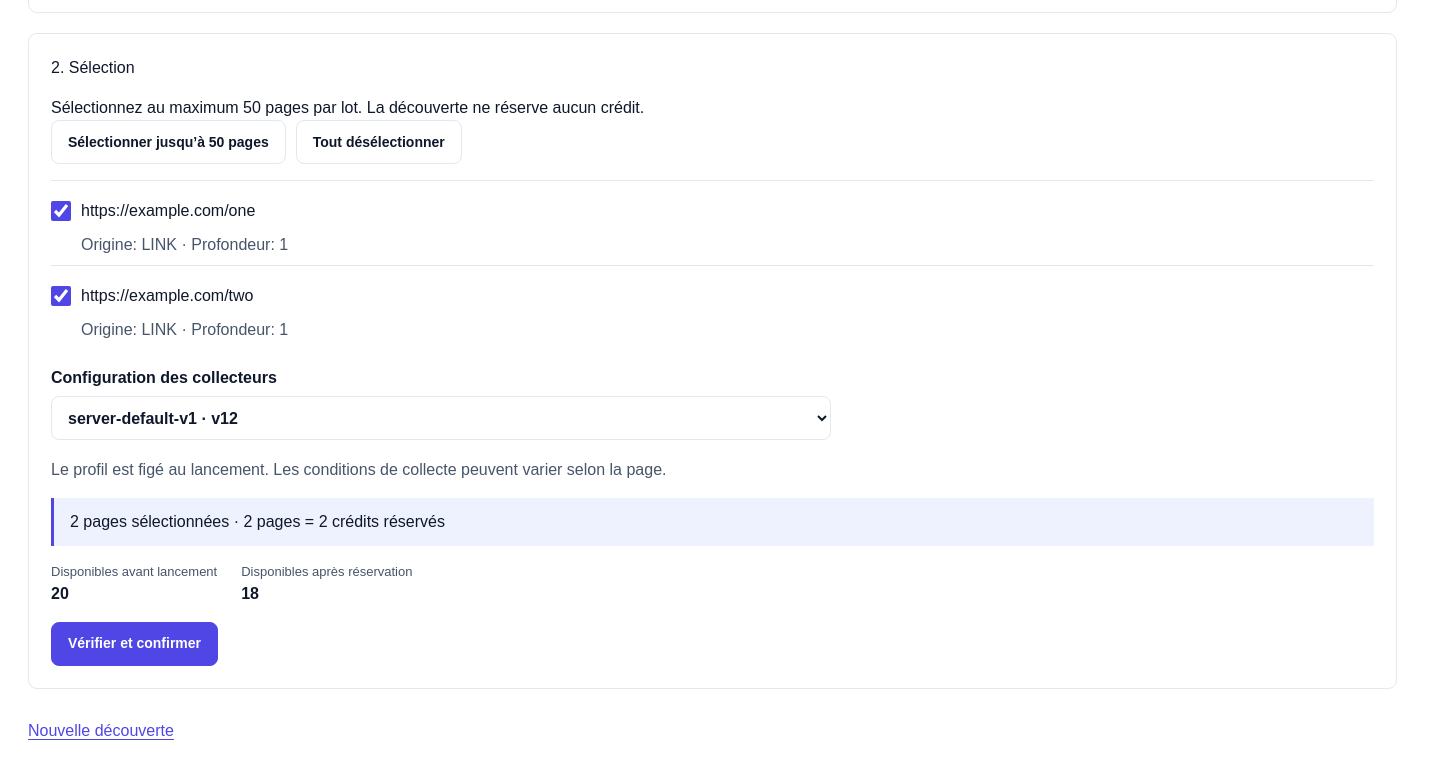
Scenario: keeps selection active when the fresh quota prevents confirmation
(page scrolled)
Click the button "Vérifier et confirmer". click: (135,644)
box: [51,622,218,666]
(page scrolled)
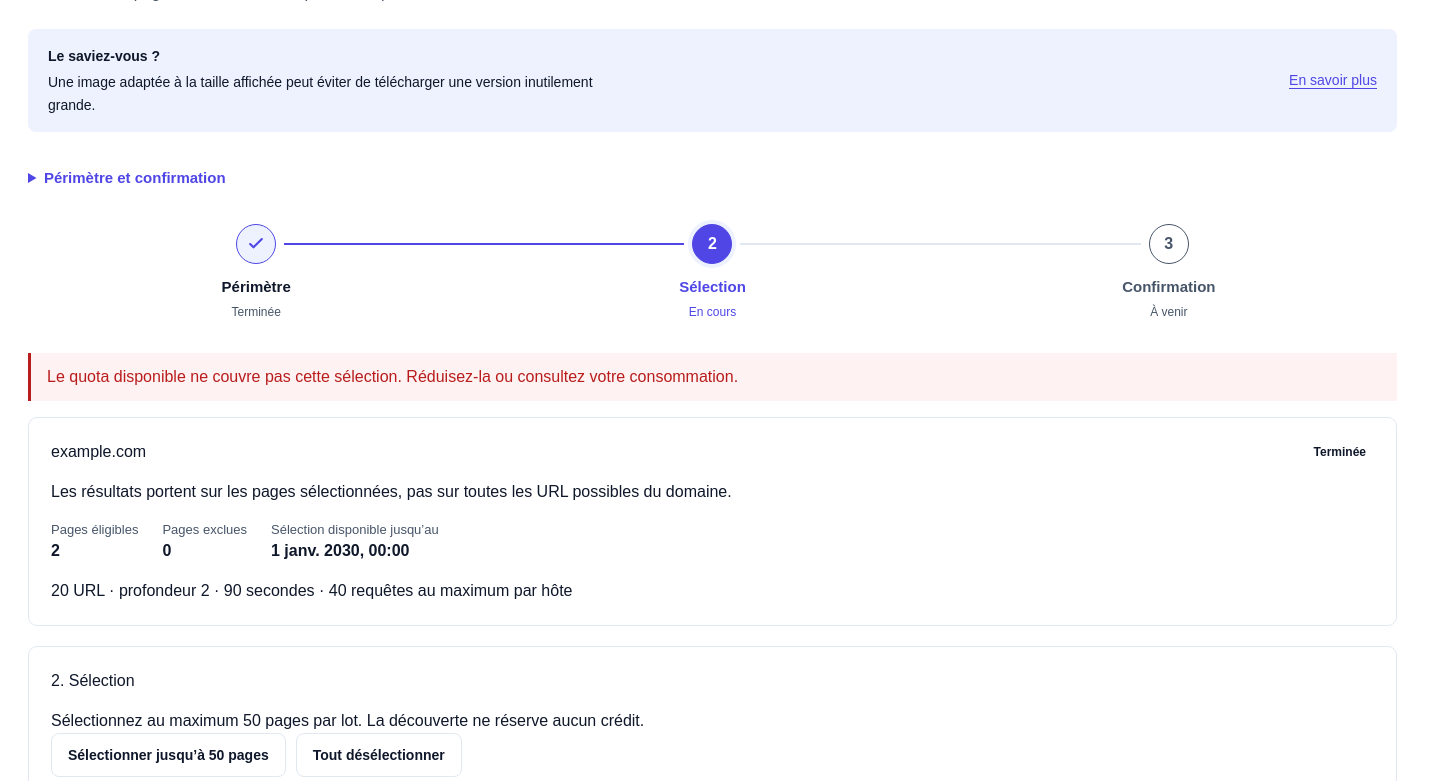
Expected: the list item "2 Sélection En cours" is shown, [679,224,746,319]
Expected: the message is shown, [28,353,1397,401]
